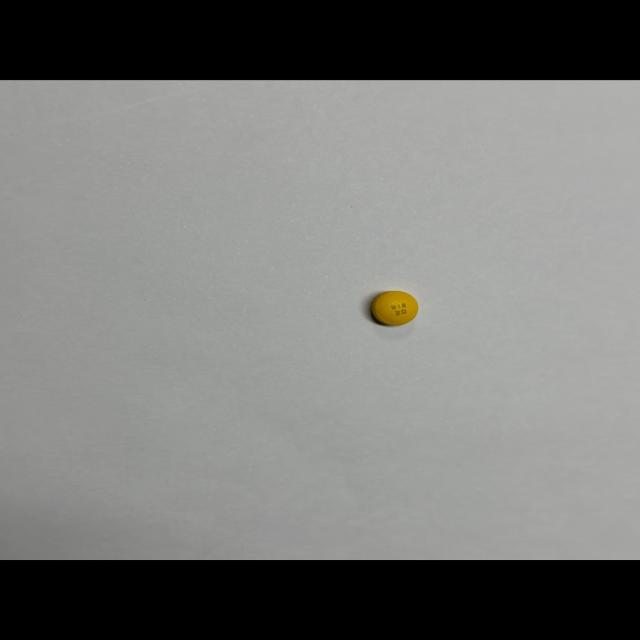Piller: (372, 291, 418, 325)
